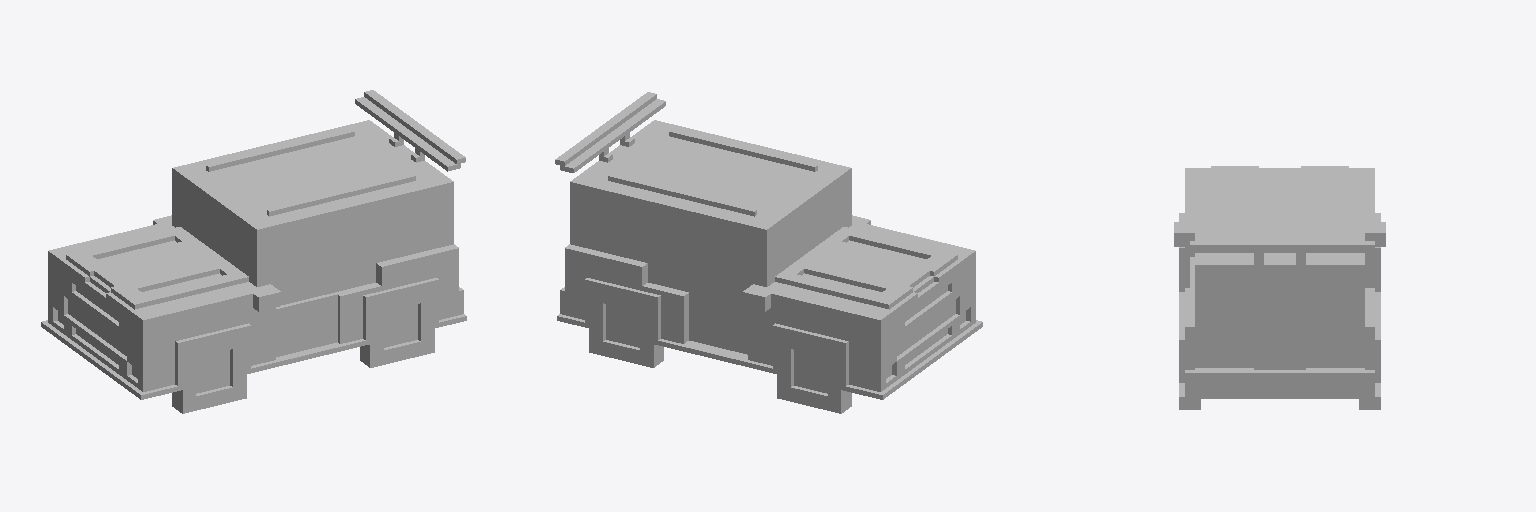
Rendered from alll cars3-116.obj.
3 views of the same model, side by side, from view 1: azimuth 30°, elevation 25°; view 2: azimuth 150°, elevation 25°; view 3: azimuth 270°, elevation 25° (orthographic).
Visible parts, largest first — view 1: object 1; view 2: object 1; view 3: object 1.
Boxes of the visible parts, <box> form: object 1: <box>41,90,466,413</box>; object 1: <box>555,92,982,413</box>; object 1: <box>1174,166,1385,409</box>.
Bounding box in the file's own units: 7.2 × 3.8 × 4.